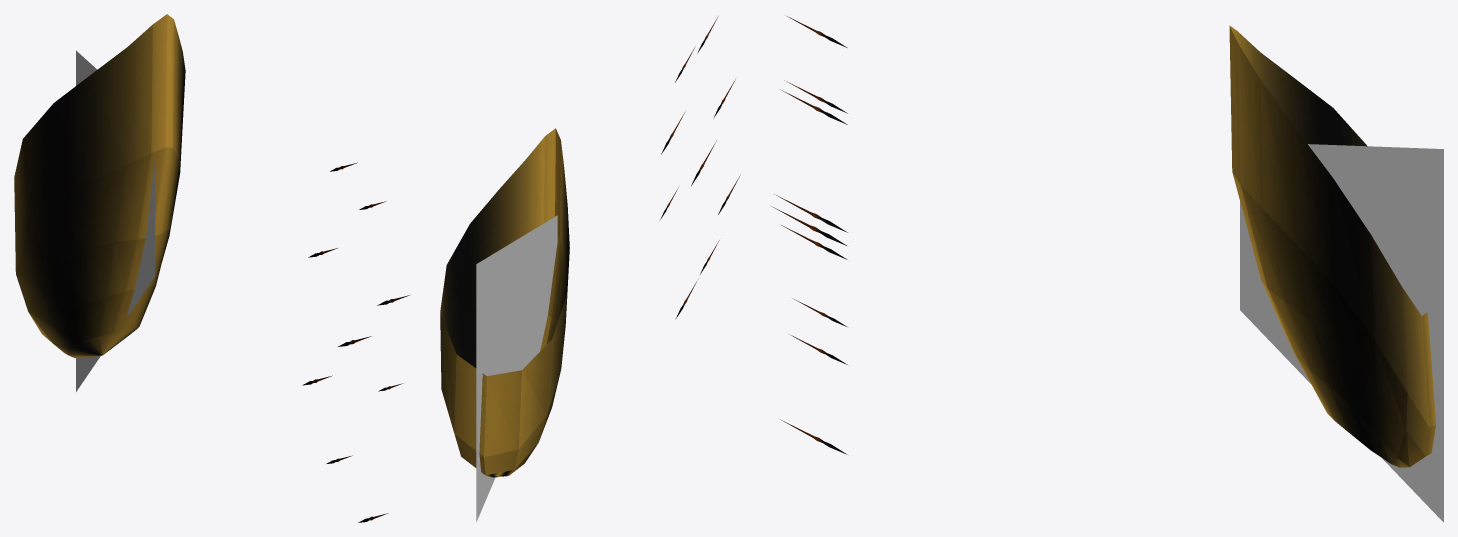
Rendered from tx_yueyatianchong.obj.
3 renders of one model, left to right at view 1: azimuth 30°, elevation 25°; view 2: azimuth 150°, elevation 25°; view 3: azimuth 270°, elevation 25°, orthographic. The views are drawn at different scales.
Visible parts, largest first — view 1: avmesh_bump, Plane01; view 2: avmesh_bump, Plane01; view 3: avmesh_bump, Plane01.
Boxes of the visible parts, <box> form: avmesh_bump: <box>14,14,185,358</box>; Plane01: <box>76,50,155,391</box>; avmesh_bump: <box>440,128,569,477</box>; Plane01: <box>476,215,557,521</box>; avmesh_bump: <box>1229,25,1435,467</box>; Plane01: <box>1240,144,1443,522</box>.
Bounding box in the file's own units: 255 × 698 × 855.
